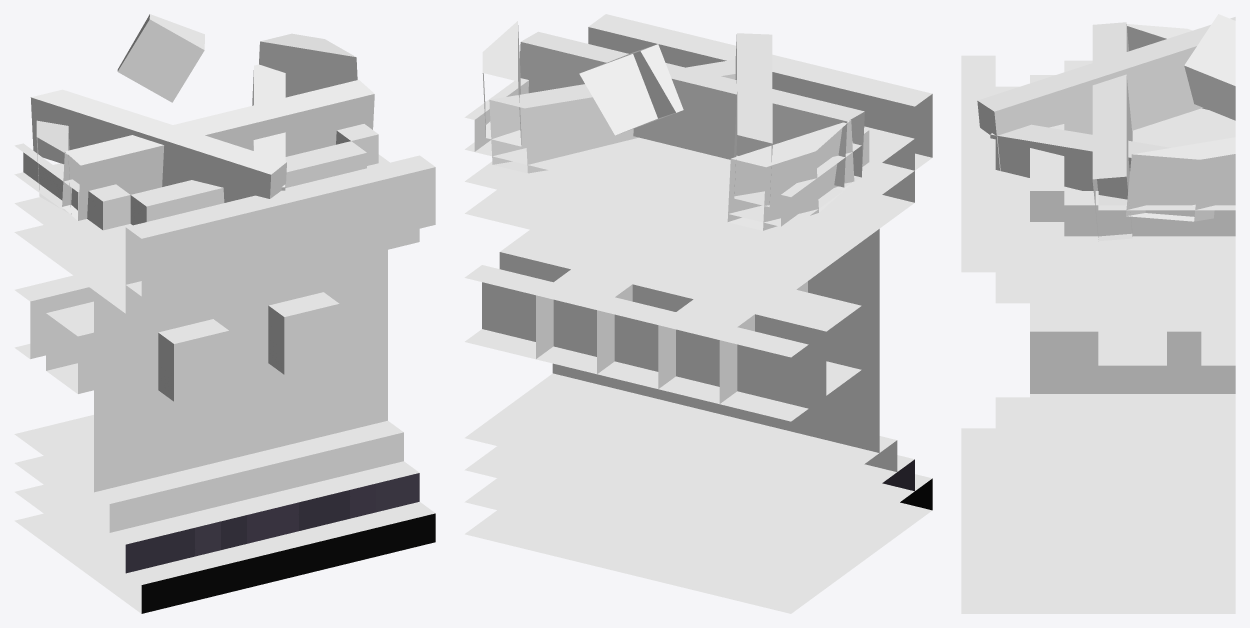
File: forbidden_hex_source_altar_imported_formed_4.obj
3 renders of one model, left to right at view 1: azimuth 30°, elevation 25°; view 2: azimuth 150°, elevation 25°; view 3: azimuth 270°, elevation 25°, orthographic. The views are drawn at different scales.
Parts seen in each view (by area): view 1: altar; view 2: altar; view 3: altar.
Part boxes in pixels (bbox=[...]): altar: bbox=[14, 14, 435, 613]; altar: bbox=[464, 14, 932, 613]; altar: bbox=[961, 14, 1235, 613].
Size of the model in its own units: 1 by 1.55 by 0.75.
